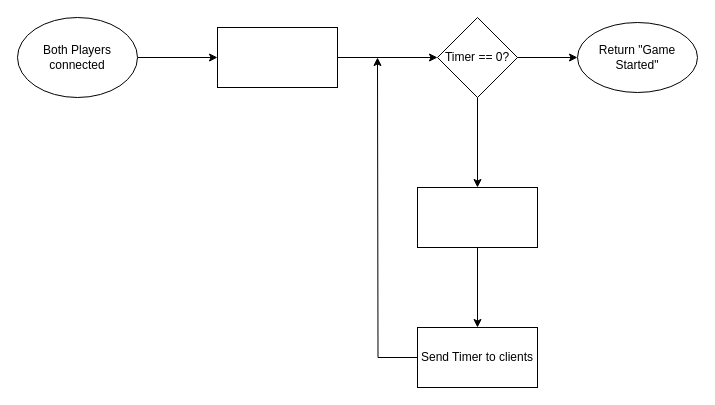
Image size: 715x405. Some labels were removed from this diagram. The shapes that lost their labels are listed below. From the top down, each one's centre as x and y in pixels, then its label:
point 277,57: Timer = 5
point 477,217: Remove time since previous frame from timer
